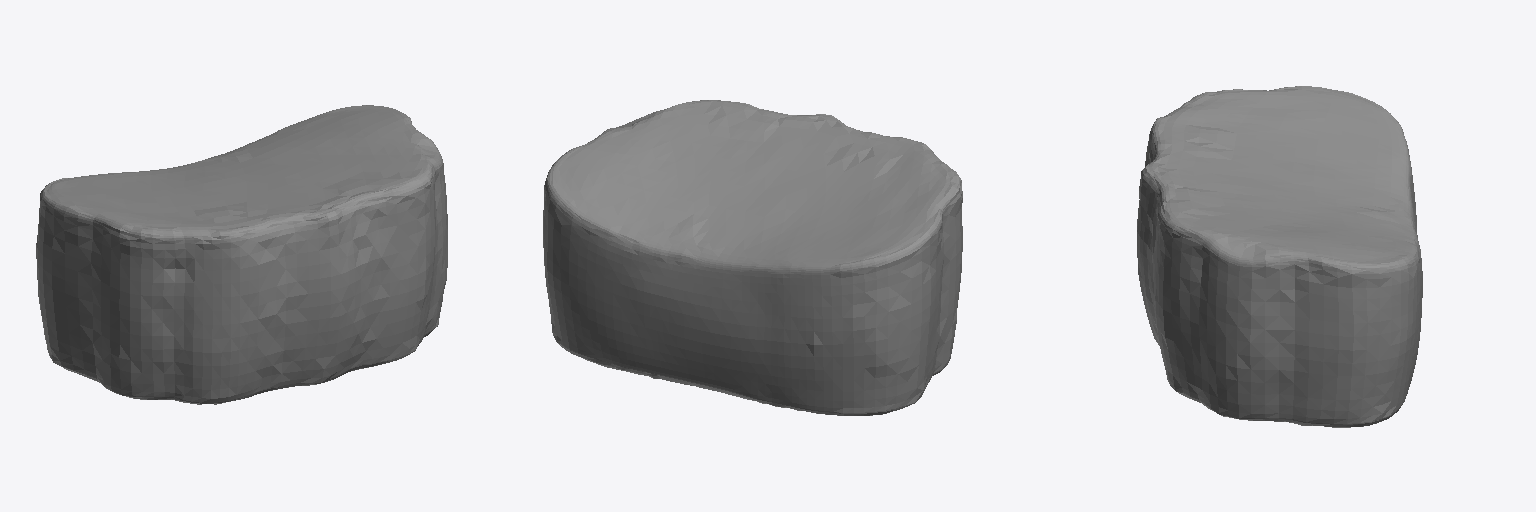
The picture shows the model from 3 angles: view 1: azimuth 30°, elevation 25°; view 2: azimuth 150°, elevation 25°; view 3: azimuth 270°, elevation 25°; orthographic projection.
Parts seen in each view (by area): view 1: SZB_ZL_04; view 2: SZB_ZL_04; view 3: SZB_ZL_04.
Part boxes in pixels (bbox=[...]): SZB_ZL_04: bbox=[36, 105, 447, 404]; SZB_ZL_04: bbox=[543, 100, 962, 415]; SZB_ZL_04: bbox=[1137, 86, 1422, 427].
Bounding box in the file's own units: 21.83 × 10.37 × 14.74.